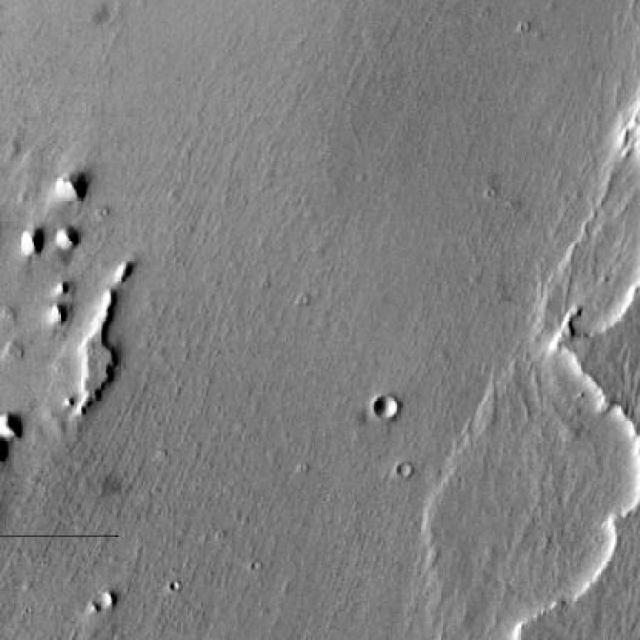crater: (372, 395, 397, 419)
